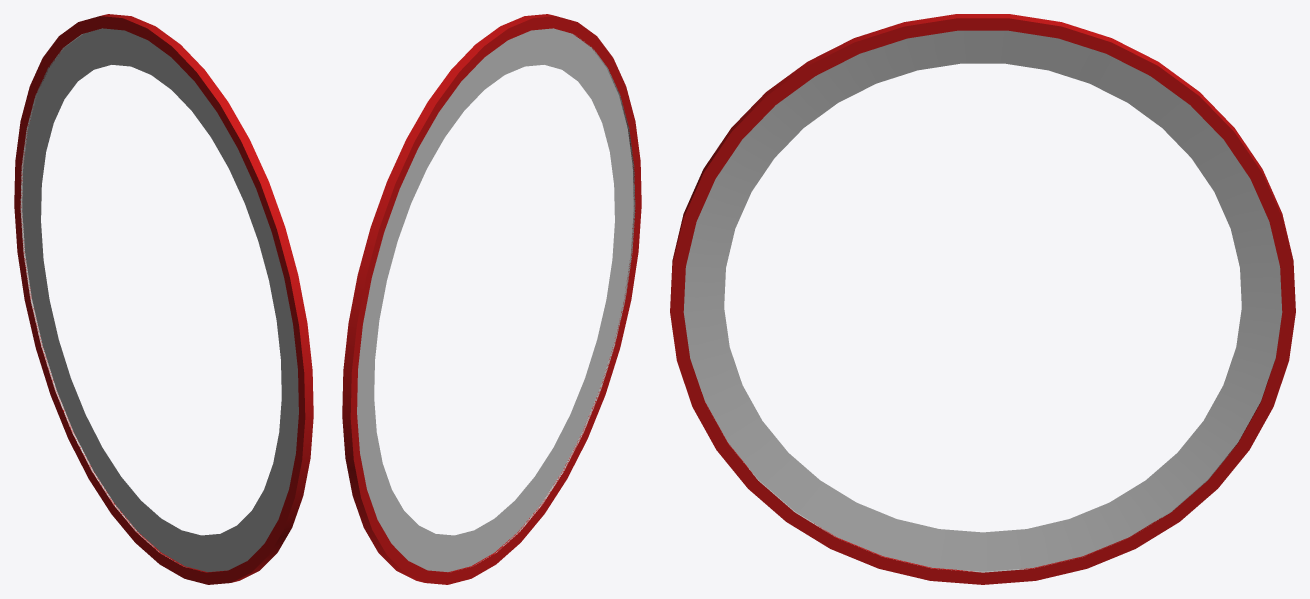
The model's file is chopper2.fbx.
The picture shows the model from 3 angles, left to right: view 1: azimuth 30°, elevation 25°; view 2: azimuth 150°, elevation 25°; view 3: azimuth 270°, elevation 25°; orthographic projection. The views are drawn at different scales.
Parts seen in each view (by area): view 1: Tube; view 2: Tube; view 3: Tube.
Part boxes in pixels (box(x1,y1,x2,y2)): Tube: box(14, 14, 313, 584); Tube: box(342, 14, 641, 584); Tube: box(670, 14, 1295, 584).
Bounding box in the file's own units: 2.59 × 154 × 155.
